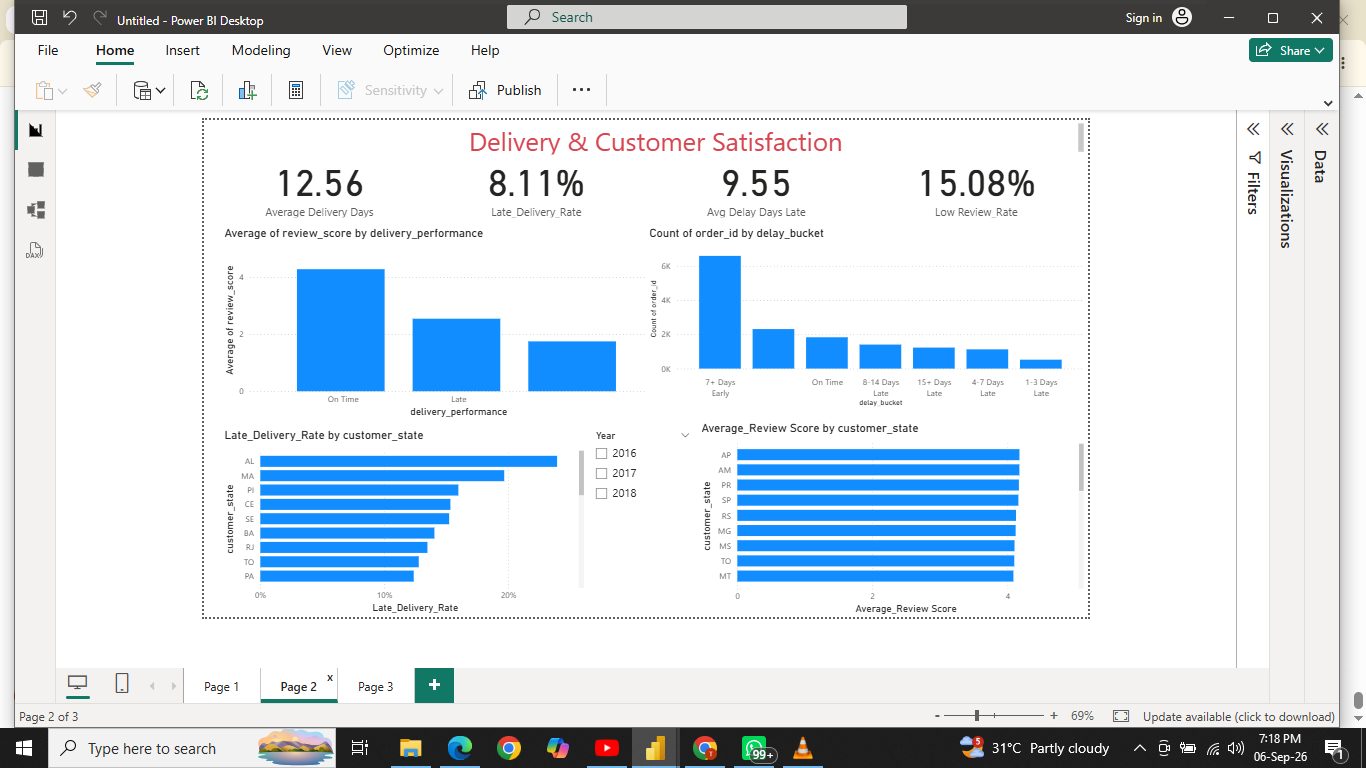

The dashboard page shown, as its layout file describes it:
{"tool":"powerbi","page":{"name":"Page 2","canvas":[1280,720],"ordinal":1},"visuals":[{"type":"card","fields":{"Values":["olist_master_for_powerbi.Average Delivery Days"]},"box":[11.5,41.8,311.4,103.8],"z":0},{"type":"card","fields":{"Values":["olist_master_for_powerbi.Late_Delivery_Rate"]},"box":[322.9,41.8,317.1,103.8],"z":1000},{"type":"card","fields":{"Values":["olist_master_for_powerbi.Avg Delay Days Late"]},"box":[640,41.8,320,103.8],"z":2000},{"type":"card","fields":{"Values":["olist_master_for_powerbi.Low Review_Rate"]},"box":[960,41.8,320,103.8],"z":3000},{"type":"clusteredColumnChart","fields":{"Category":["olist_master_for_powerbi.delivery_performance"],"Y":["Avg(olist_master_for_powerbi.review_score)"]},"box":[24.5,154.2,651.5,282.5],"z":4000},{"type":"clusteredColumnChart","fields":{"Category":["olist_master_for_powerbi.delay_bucket"],"Y":["Count(olist_master_for_powerbi.order_id)"]},"box":[640,154.2,640,266.7],"z":5000},{"type":"clusteredBarChart","fields":{"Category":["olist_master_for_powerbi.customer_state"],"Y":["olist_master_for_powerbi.Late_Delivery_Rate"]},"box":[24.5,446.4,531.4,273.6],"z":6000},{"type":"clusteredBarChart","fields":{"Category":["olist_master_for_powerbi.customer_state"],"Y":["olist_master_for_powerbi.Average_Review Score"]},"box":[715.7,436.3,564.5,285.1],"z":7000},{"type":"textbox","box":[0,0,1280,54.8],"z":8000},{"type":"slicer","fields":{"Values":["olist_master_for_powerbi.order_purchase_timestamp.Variation.Date Hierarchy.Year"]},"box":[555,445.4,161.4,275.3],"z":9000}]}

Visuals, with their boxes on the page's 1280x720 design canvas (x1, y1, x2, y2). These are canvas units, not pixel positions in the 1366x768 screenshot, which may show the page scaled, cropped or inside an application window:
card - olist_master_for_powerbi.Average Delivery Days: box(12, 42, 323, 146)
card - olist_master_for_powerbi.Late_Delivery_Rate: box(323, 42, 640, 146)
card - olist_master_for_powerbi.Avg Delay Days Late: box(640, 42, 960, 146)
card - olist_master_for_powerbi.Low Review_Rate: box(960, 42, 1280, 146)
clusteredColumnChart - olist_master_for_powerbi.delivery_performance x Avg(olist_master_for_powerbi.review_score): box(24, 154, 676, 437)
clusteredColumnChart - olist_master_for_powerbi.delay_bucket x Count(olist_master_for_powerbi.order_id): box(640, 154, 1280, 421)
clusteredBarChart - olist_master_for_powerbi.customer_state x olist_master_for_powerbi.Late_Delivery_Rate: box(24, 446, 556, 720)
clusteredBarChart - olist_master_for_powerbi.customer_state x olist_master_for_powerbi.Average_Review Score: box(716, 436, 1280, 721)
textbox: box(0, 0, 1280, 55)
slicer - olist_master_for_powerbi.order_purchase_timestamp.Variation.Date Hierarchy.Year: box(555, 445, 716, 721)
